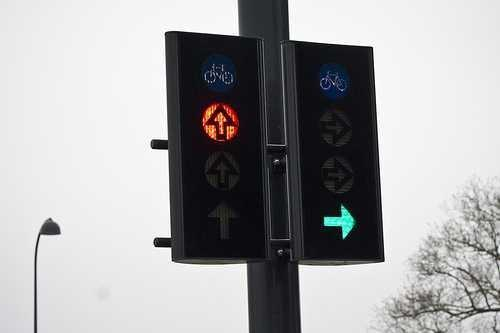2: (301, 51, 372, 259)
5: (196, 96, 244, 149)
8: (184, 45, 258, 253)
red traffic light: (316, 197, 362, 246)
